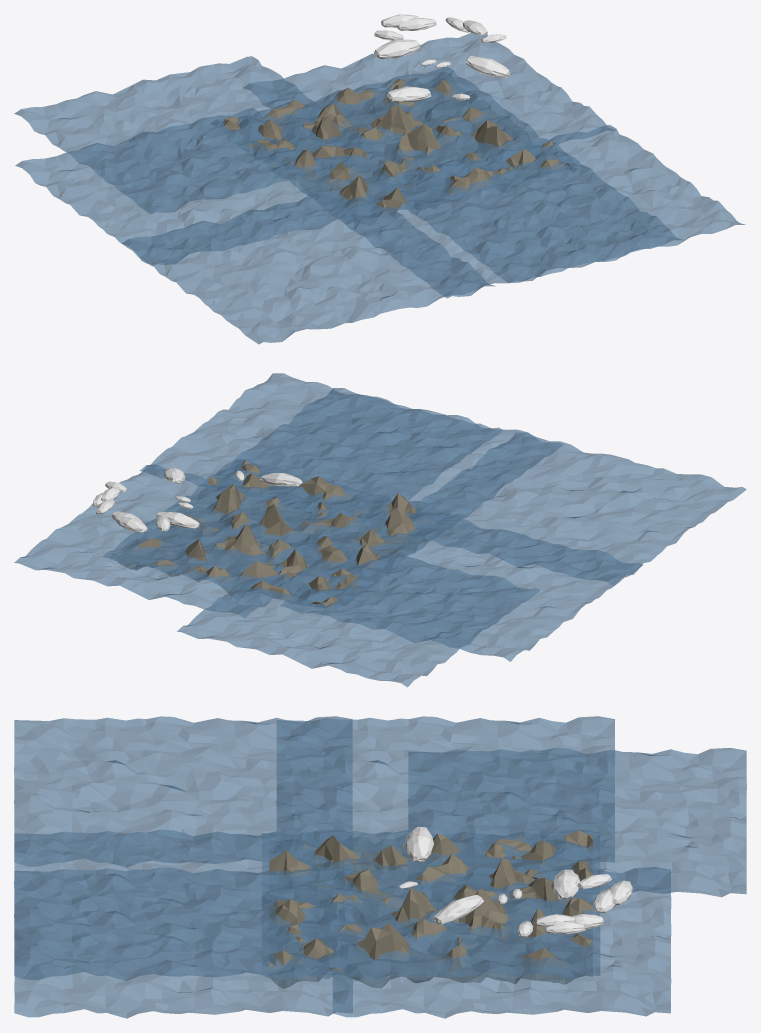
The picture shows the model from 3 angles, top to bottom: view 1: azimuth 30°, elevation 25°; view 2: azimuth 150°, elevation 25°; view 3: azimuth 270°, elevation 25°; orthographic projection. The views are drawn at different scales.
Visible parts, largest first — view 1: Plane.003, Plane.004, Plane.006, Plane.007, Plane.002, Plane.005, Plane.001, Plane, Cube.002, Cube.006, Cube.011; view 2: Plane.003, Plane.004, Plane.007, Plane.006, Plane.002, Plane.005, Plane.001, Plane; view 3: Plane.003, Plane.006, Plane.004, Plane.002, Plane.007, Plane.005, Plane.001, Plane, Cube.006, Cube.011, Cube.002.
Boxes of the visible parts, x1,y1,x2,y2 form: Plane.003: (121,193,495,344); Plane.004: (15,108,381,266); Plane.006: (372,124,745,282); Plane.007: (14,56,388,213); Plane.002: (312,140,684,298); Plane.005: (243,33,616,188); Plane.001: (210,67,582,224); Plane: (221,74,571,212); Cube.002: (374,39,420,58); Cube.006: (466,56,509,77); Cube.011: (386,86,431,102); Plane.003: (405,433,746,586); Plane.004: (280,508,642,661); Plane.007: (177,534,539,687); Plane.006: (140,373,502,526); Plane.002: (201,388,562,541); Plane.005: (14,465,376,618); Plane.001: (103,459,465,612); Plane: (114,460,437,610); Plane.003: (14,716,352,867); Plane.006: (14,867,353,1018); Plane.004: (276,716,614,864); Plane.002: (14,829,352,980); Plane.007: (408,748,746,897); Plane.005: (332,867,671,1018); Plane.001: (261,829,600,980); Plane: (269,830,592,988); Cube.006: (433,894,483,924); Cube.011: (405,827,433,861); Cube.002: (551,869,579,899).
Size of the model in its own units: 7395 by 1109 by 7794.
